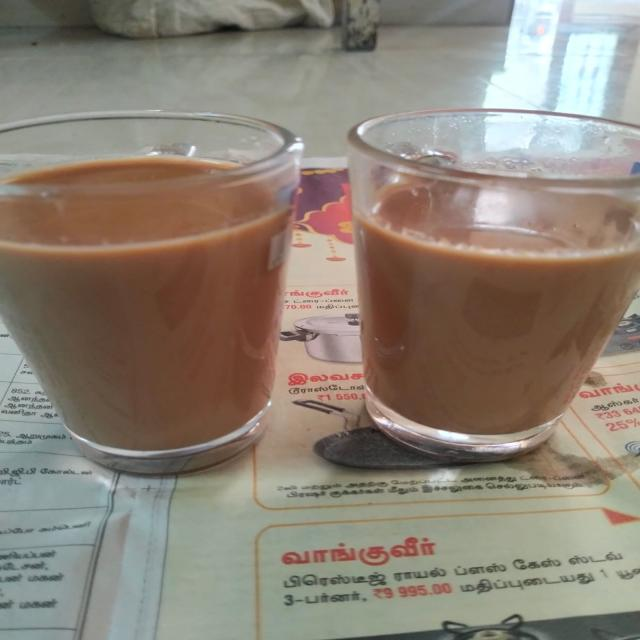glass-VX4N: (4, 110, 301, 477), (348, 105, 640, 468)
